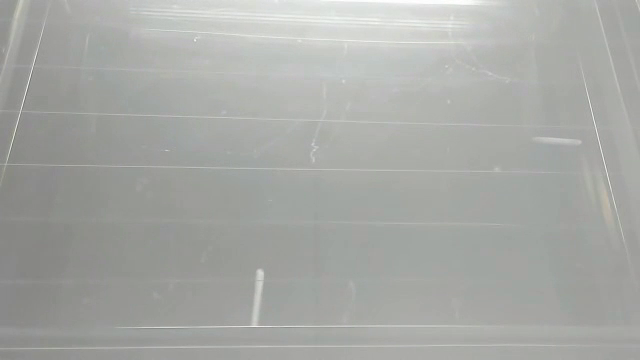alpha: (248, 265, 268, 329), (528, 132, 584, 151), (488, 162, 505, 177)
